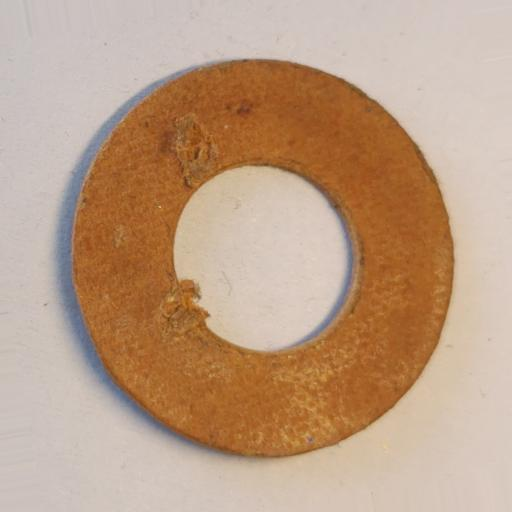defect: (159, 277, 212, 343), (172, 112, 218, 187)
